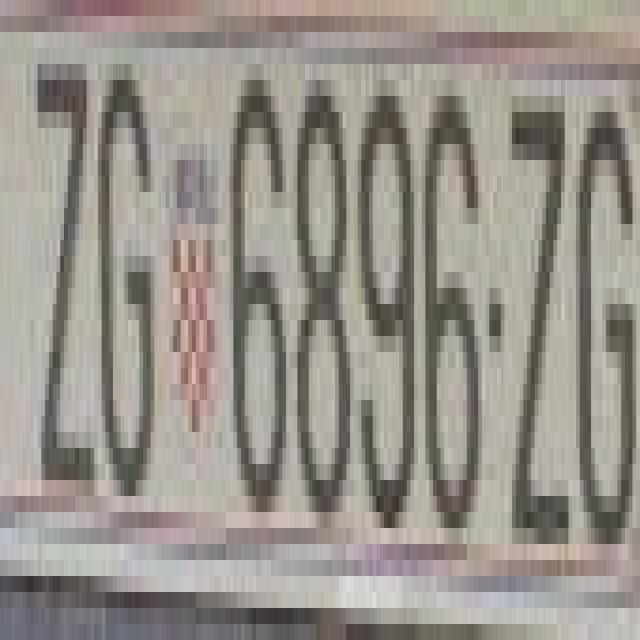6: (222, 80, 286, 528), (418, 112, 474, 560)
8: (294, 80, 346, 496)
9: (354, 112, 411, 512)
G: (86, 64, 150, 512), (576, 80, 632, 544)
Z: (18, 32, 90, 480), (512, 80, 568, 528)
